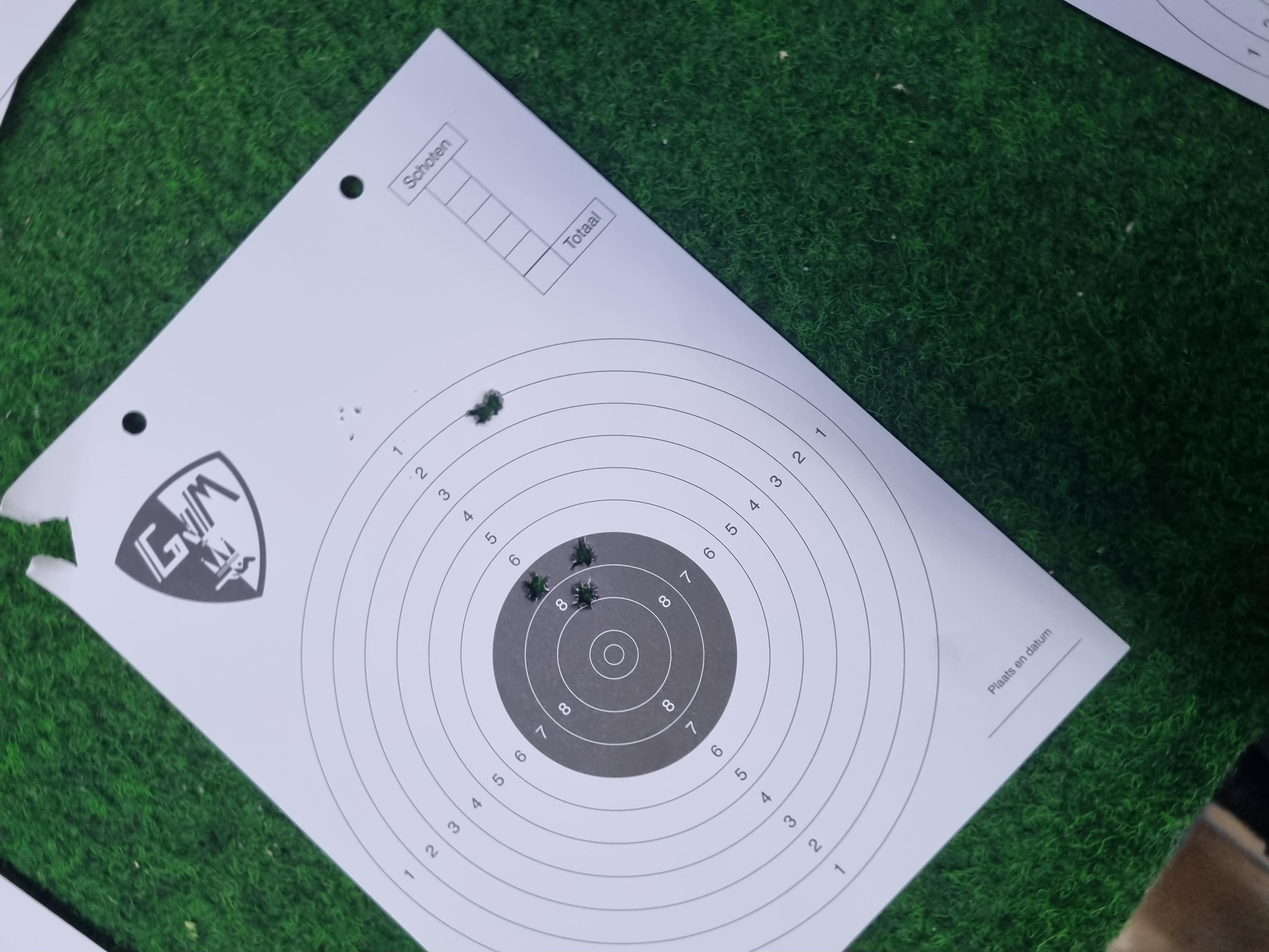hole: (455, 428, 499, 450), (510, 427, 552, 448), (466, 391, 507, 412), (702, 349, 732, 370), (715, 363, 750, 378)
